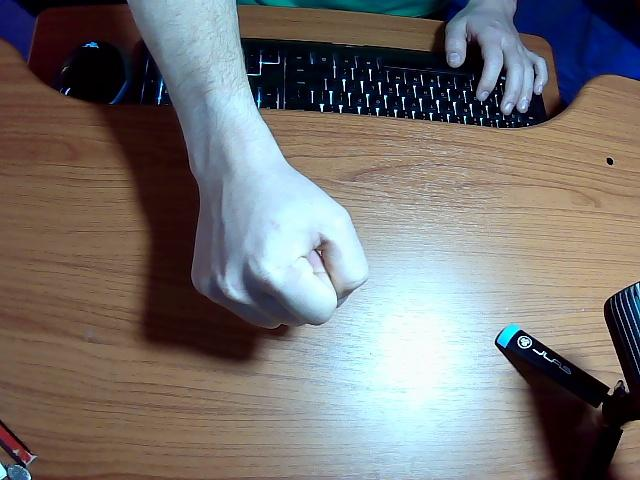rock: (131, 0, 368, 327)
